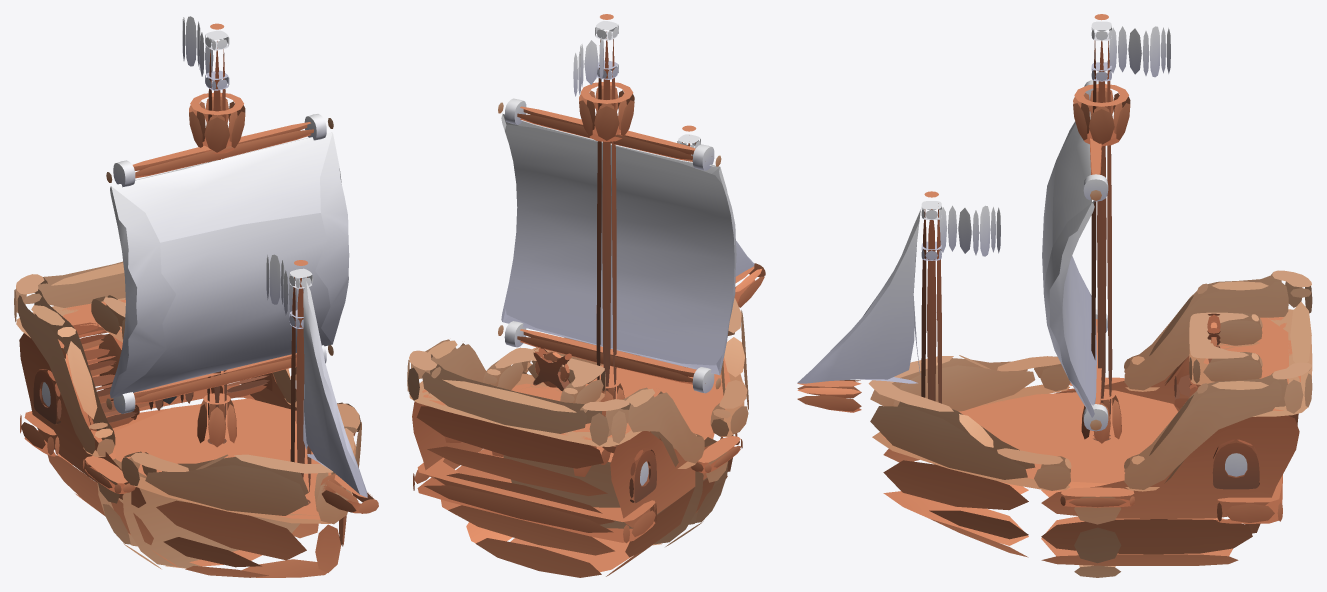
The model's file is ship-small.glb.
3 renders of one model, left to right at view 1: azimuth 30°, elevation 25°; view 2: azimuth 150°, elevation 25°; view 3: azimuth 270°, elevation 25°, orthographic. The views are drawn at different scales.
Visible parts, largest first — view 1: ship-small, sail-a, flag-b, flag-a; view 2: ship-small, sail-a, flag-b; view 3: ship-small, sail-a, flag-b, flag-a.
Part boxes in pixels (x1,y1,x2,y2): ship-small: (14, 23, 378, 577); sail-a: (106, 114, 349, 413); flag-b: (182, 16, 229, 90); flag-a: (266, 254, 313, 328); ship-small: (407, 14, 765, 577); sail-a: (498, 98, 736, 393); flag-b: (573, 21, 618, 96); ship-small: (797, 14, 1312, 577); sail-a: (1042, 80, 1108, 431); flag-b: (1091, 21, 1170, 81); flag-a: (921, 201, 1000, 260).
Size of the model in its own units: 4.8 by 9.96 by 8.8.
Materials: 1 (1 with a texture image).
